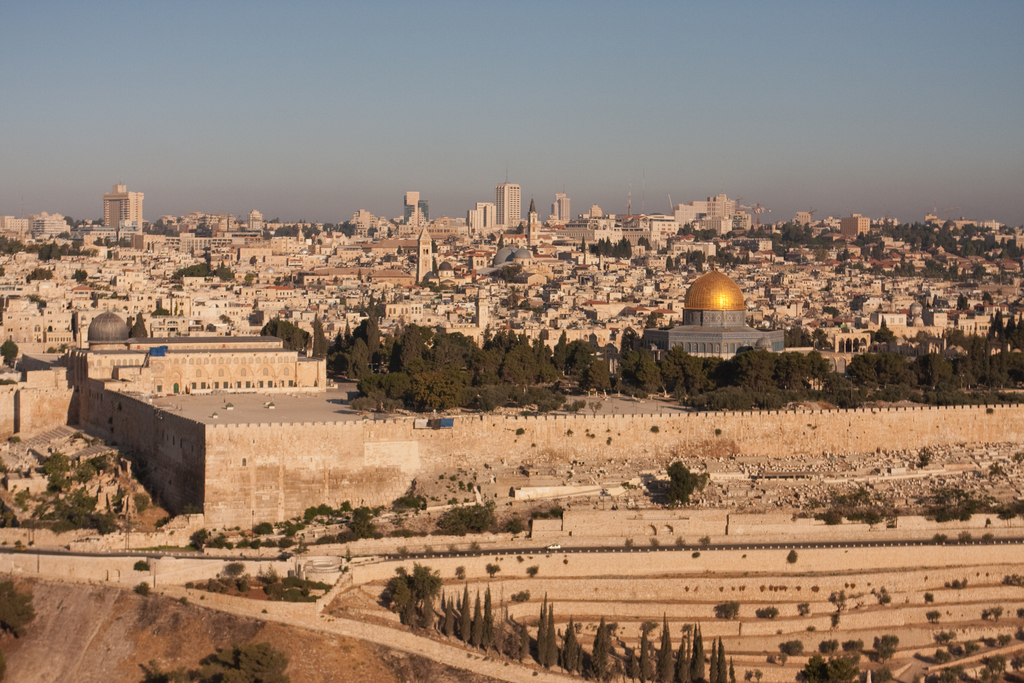Tree: (380, 556, 1019, 682), (325, 308, 1023, 414), (615, 346, 848, 412), (426, 337, 558, 383), (461, 383, 592, 418), (934, 338, 1023, 388), (384, 561, 440, 627), (848, 346, 919, 391), (350, 369, 416, 415), (883, 219, 960, 256), (557, 329, 612, 378), (956, 222, 1023, 258), (530, 591, 556, 668), (747, 220, 822, 245), (414, 370, 458, 410), (264, 314, 305, 356), (339, 336, 378, 379), (588, 617, 610, 677), (669, 461, 695, 508), (559, 617, 580, 668), (801, 651, 833, 682), (307, 312, 327, 359), (636, 630, 654, 682), (869, 312, 896, 345), (458, 577, 471, 645), (586, 356, 609, 392), (599, 237, 632, 262), (983, 306, 1008, 338), (660, 624, 673, 682), (714, 639, 732, 680), (483, 593, 496, 649), (400, 328, 418, 366), (830, 654, 856, 680), (694, 631, 707, 681), (677, 635, 690, 682), (472, 601, 484, 651), (874, 635, 894, 661), (622, 650, 638, 682), (718, 601, 743, 621), (128, 310, 146, 335), (783, 639, 809, 655), (810, 635, 835, 651), (66, 265, 87, 283), (841, 638, 867, 651), (662, 250, 671, 268)
